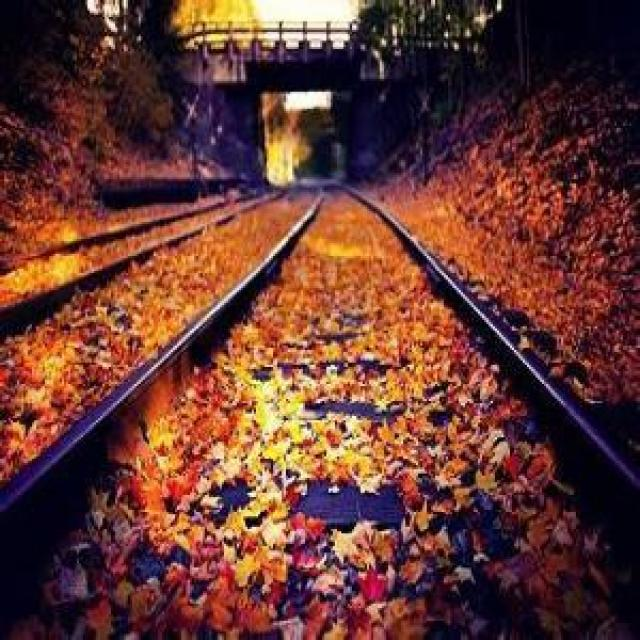rail: (0, 175, 640, 639)
